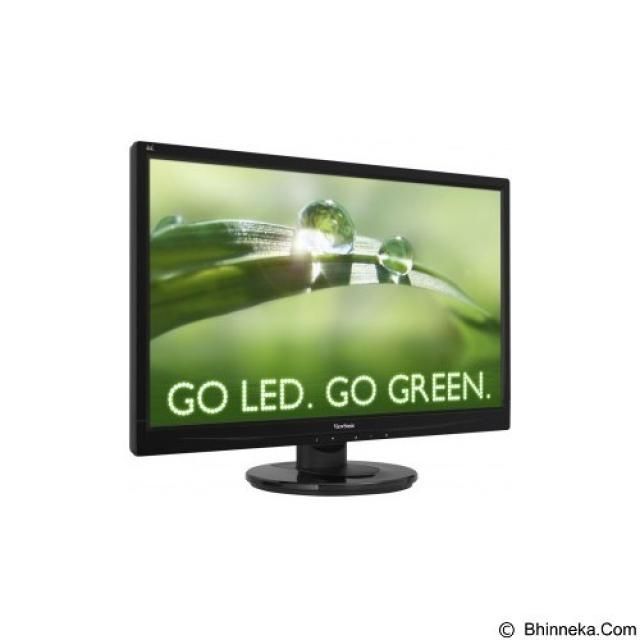monitor: (125, 135, 516, 500)
